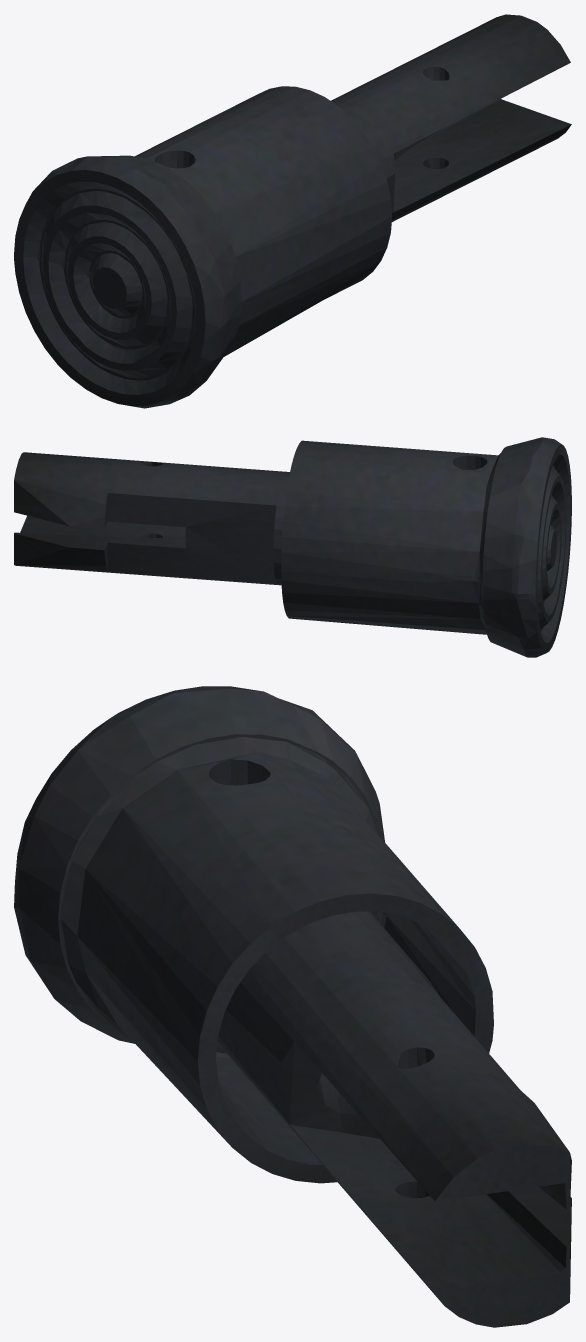
Rendered from Plunger_Assembly.dae.
The picture shows the model from 3 angles, top to bottom: view 1: azimuth 30°, elevation 25°; view 2: azimuth 150°, elevation 25°; view 3: azimuth 270°, elevation 25°; orthographic projection. The views are drawn at different scales.
Visible parts, largest first — view 1: Plunger_Assembly; view 2: Plunger_Assembly; view 3: Plunger_Assembly.
Boxes of the visible parts, bbox=[...] form: Plunger_Assembly: bbox=[14, 14, 571, 408]; Plunger_Assembly: bbox=[14, 437, 571, 657]; Plunger_Assembly: bbox=[14, 686, 571, 1327].
Size of the model in its own units: 0.0381 by 0.0214 by 0.0149.
Materials: 1 (1 with a texture image).
